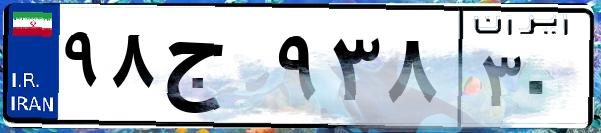0: (525, 38, 570, 115)
3: (330, 28, 385, 110), (475, 38, 525, 113)
8: (385, 28, 445, 110), (110, 28, 158, 98)
9: (270, 28, 330, 110), (57, 26, 110, 100)
ج: (158, 20, 270, 120)
